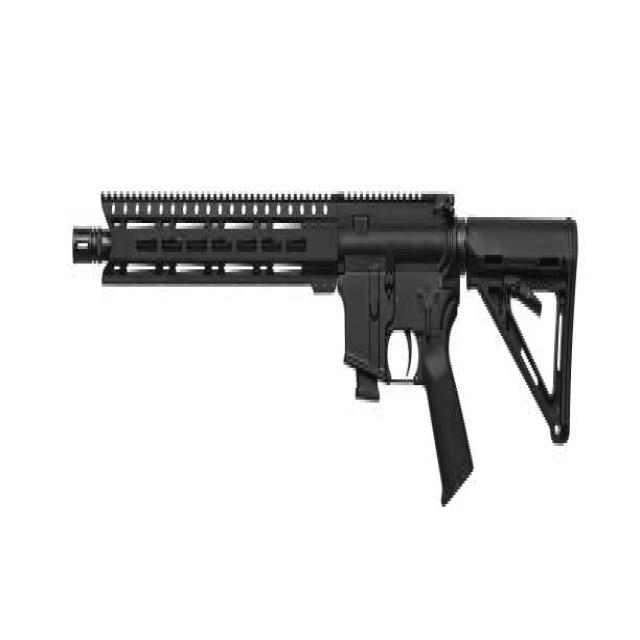rifle: (70, 155, 584, 525)
